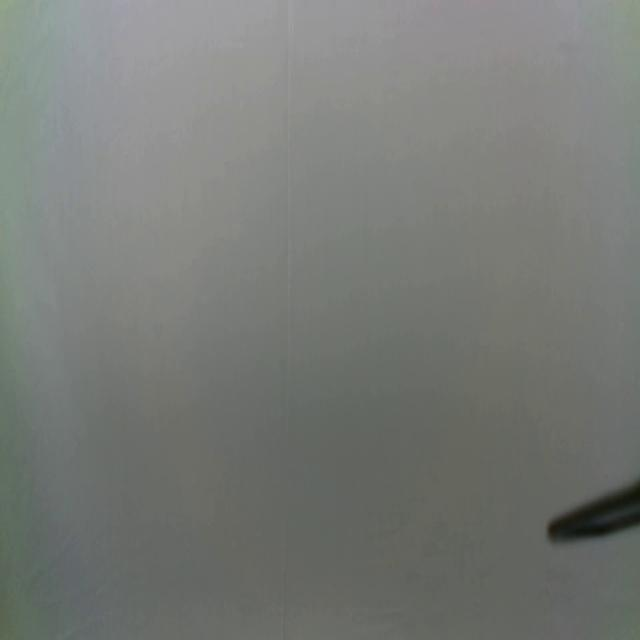crease: (279, 0, 294, 640)
